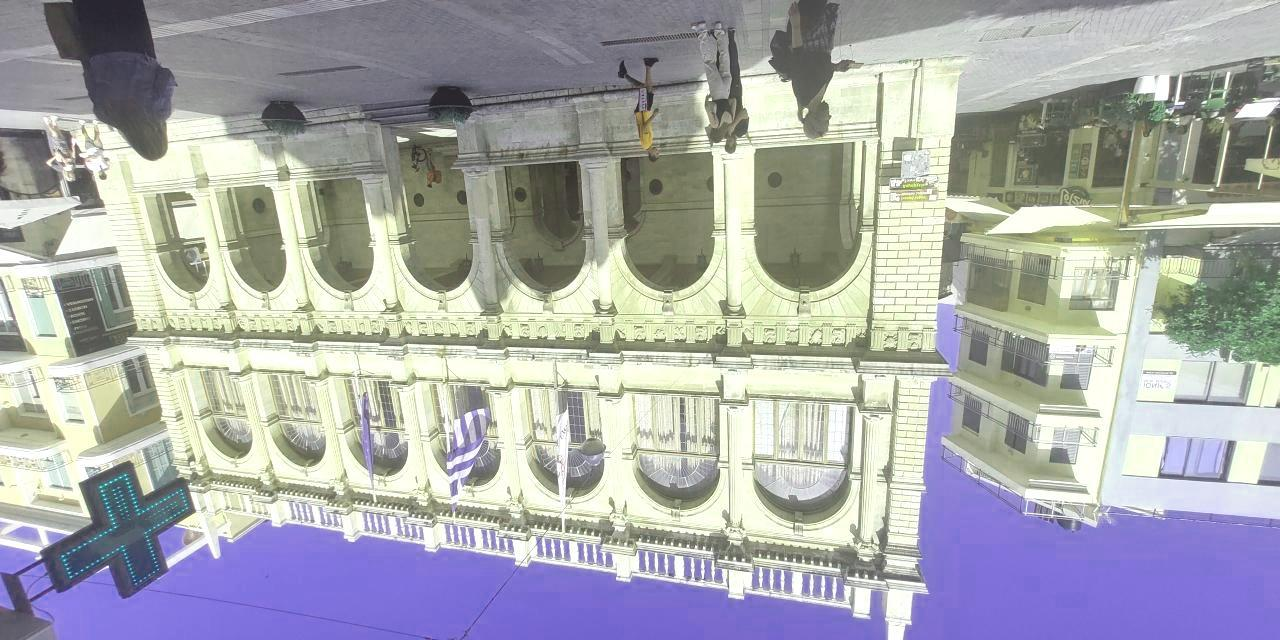Loggia: (70, 57, 972, 640)
